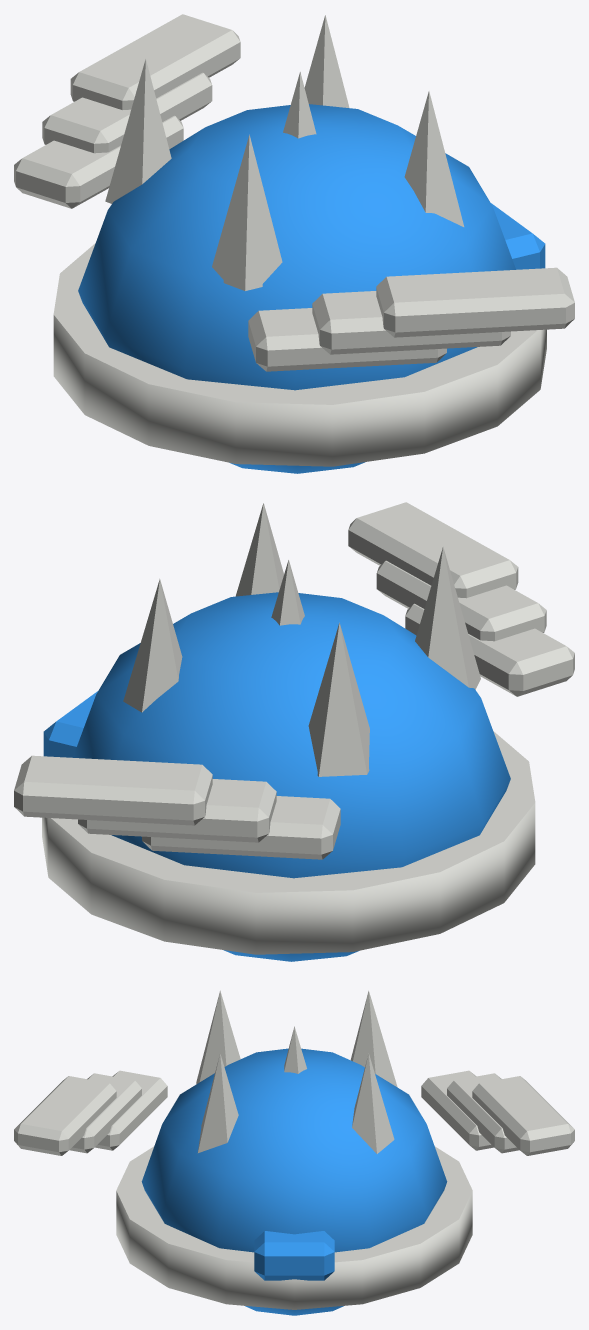
Rendered from shell_blue.glb.
3 views of the same model, one above another, from view 1: azimuth 30°, elevation 25°; view 2: azimuth 150°, elevation 25°; view 3: azimuth 270°, elevation 25° (orthographic). The views are drawn at different scales.
Visible parts, largest first — view 1: Armored dome, Ivory bumper, Wing feather.002, Wing feather.005, Spike, Wing feather, Wing feather.001, Wing feather.003, Wing feather.004, Spike.001, Spike.002, Spike.003 (+2 smaller); view 2: Armored dome, Ivory bumper, Wing feather.005, Wing feather.002, Spike.001, Wing feather.003, Wing feather.004, Wing feather, Wing feather.001, Spike, Spike.003, Spike.002 (+2 smaller); view 3: Armored dome, Ivory bumper, Wing feather.002, Wing feather.005, Nose, Spike.003, Spike.002, Wing feather, Wing feather.003, Wing feather.001, Wing feather.004, Spike.001 (+2 smaller).
Part boxes in pixels (x1,y1,x2,y2): Armored dome: (78, 104, 515, 473); Ivory bumper: (53, 243, 546, 466); Wing feather.002: (376, 267, 574, 337); Wing feather.005: (70, 14, 240, 110); Spike: (212, 134, 282, 290); Wing feather: (248, 308, 446, 371); Wing feather.001: (312, 291, 510, 354); Wing feather.003: (14, 115, 183, 208); Wing feather.004: (42, 72, 212, 153); Spike.001: (105, 58, 171, 203); Spike.002: (404, 91, 464, 226); Spike.003: (304, 15, 349, 107); Armored dome: (73, 592, 510, 961); Ivory bumper: (42, 731, 535, 954); Wing feather.005: (14, 755, 212, 825); Wing feather.002: (348, 502, 518, 598); Spike.001: (308, 622, 369, 776); Wing feather.003: (142, 796, 340, 859); Wing feather.004: (78, 779, 276, 842); Wing feather: (405, 603, 574, 696); Wing feather.001: (376, 560, 546, 641); Spike: (415, 546, 480, 689); Spike.003: (123, 579, 182, 712); Spike.002: (235, 503, 283, 596); Armored dome: (141, 1048, 447, 1315); Ivory bumper: (116, 1146, 472, 1309); Wing feather.002: (14, 1076, 116, 1155); Wing feather.005: (472, 1076, 574, 1155); Nose: (254, 1231, 334, 1280); Spike.003: (352, 1053, 394, 1153); Spike.002: (198, 1053, 238, 1152); Wing feather: (95, 1070, 167, 1150); Wing feather.003: (421, 1070, 493, 1150); Wing feather.001: (69, 1073, 141, 1153); Wing feather.004: (447, 1073, 519, 1153); Spike.001: (350, 990, 397, 1087).
Size of the model in its own units: 1.71 by 1.41 by 2.64.
